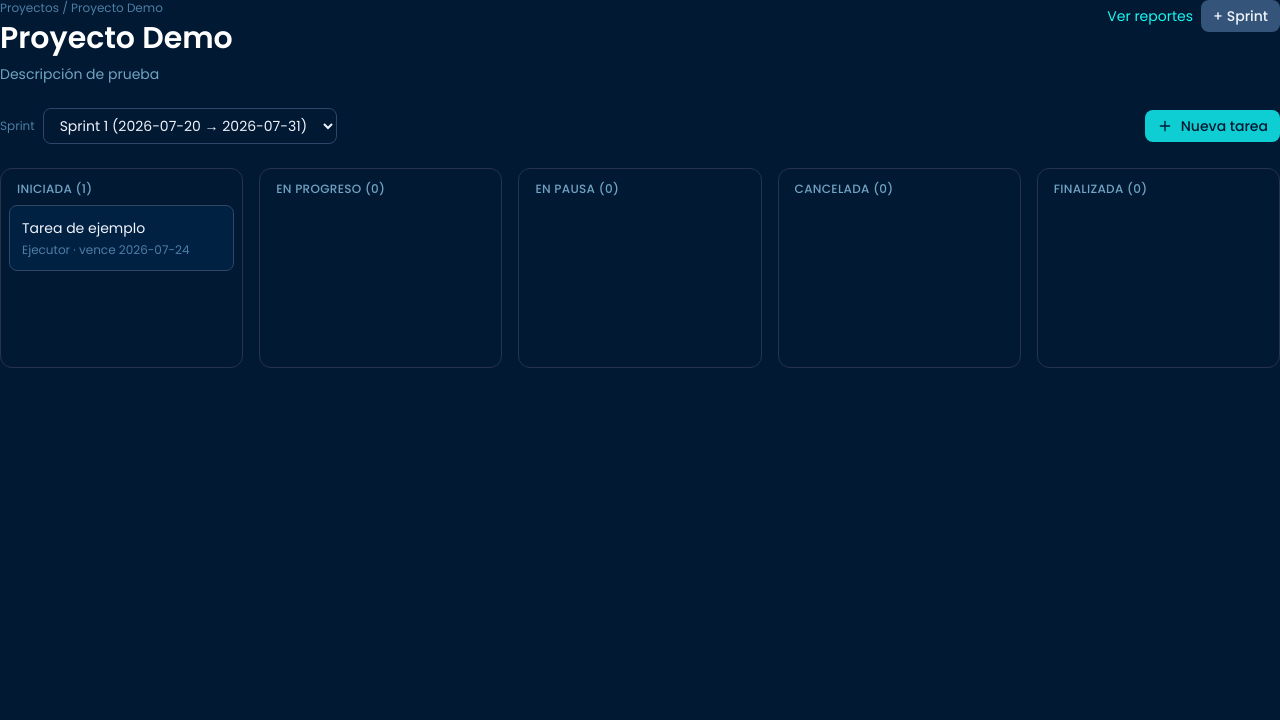
Test: ProjectDetailPage — modal de tarea › el admin ve editar/eliminar y puede cambiar el estado desde el modal
The width and height of the screenshot is (1280, 720).
Click the element with test id "task-card-t-1": (122,238) [9,205,234,271]
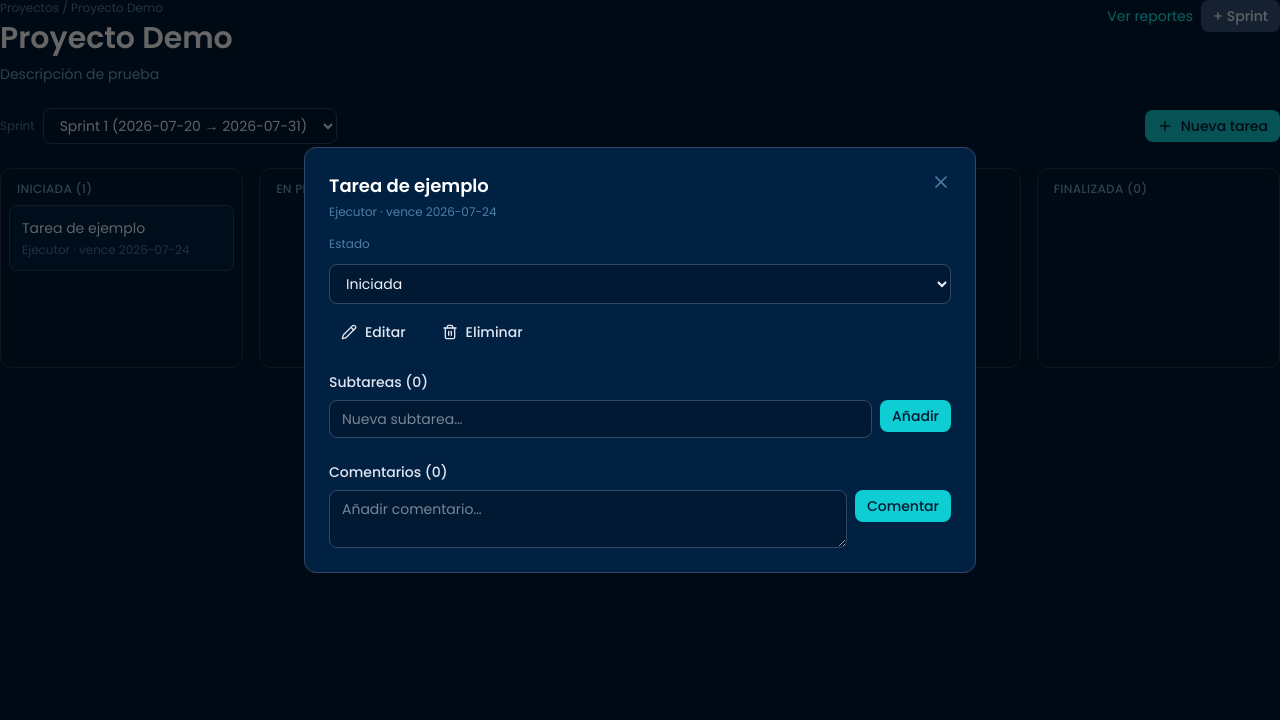
Check: the button "Editar" is shown, box [329,316,418,348]
Check: the button with test id "delete-task-button" is shown, box [430,316,534,348]
Check: the dropdown with test id "task-status-select" is enabled, box [329,264,951,304]
